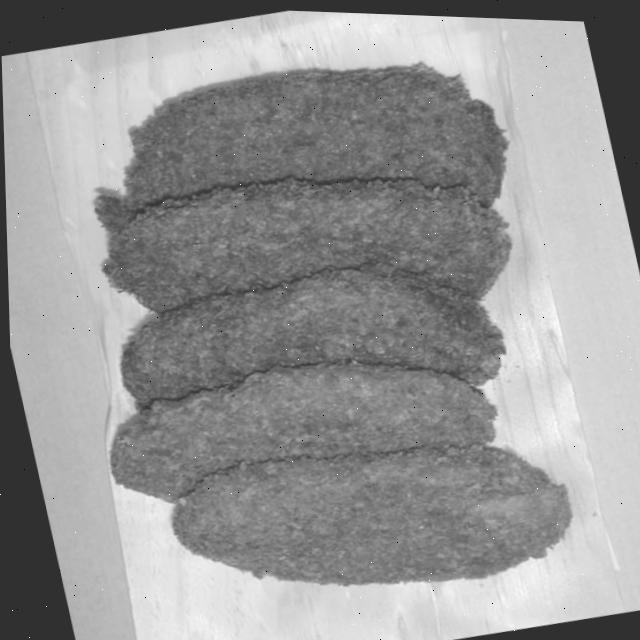炸货点心: (34, 27, 604, 640)
